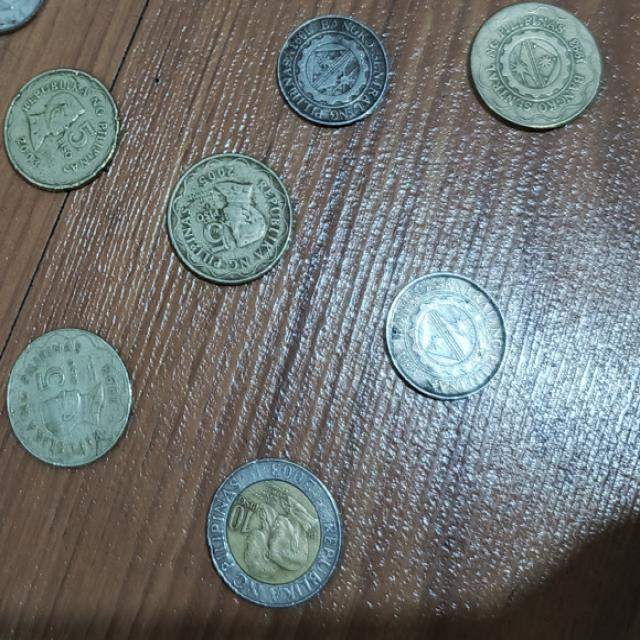10_peso: (209, 458, 341, 607)
1_peso: (386, 273, 505, 399), (278, 15, 387, 125)
5_peso: (7, 329, 131, 465), (471, 2, 600, 127), (171, 154, 292, 284), (4, 69, 118, 189)
